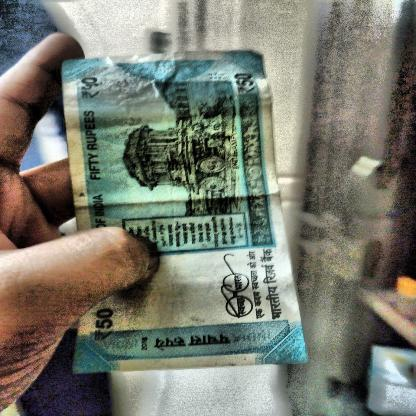Rs50: (92, 303, 122, 349), (231, 70, 263, 102)
